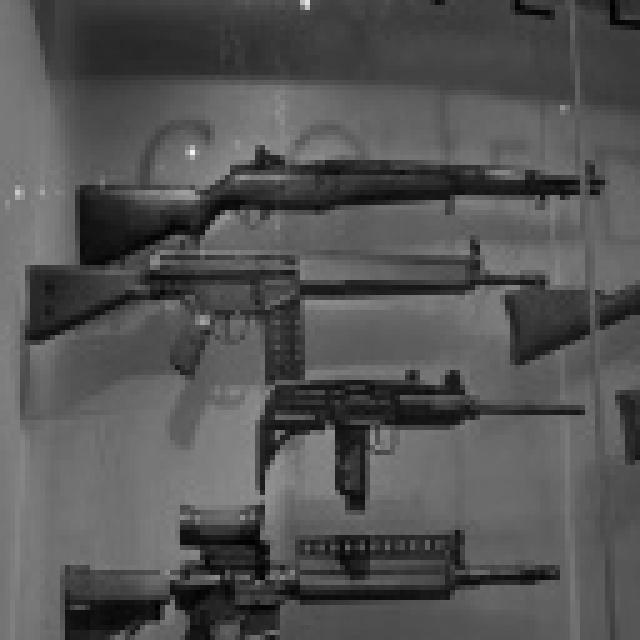Rifle: (0, 200, 555, 390), (5, 455, 575, 640), (0, 125, 640, 267), (219, 343, 607, 519), (483, 218, 640, 422)
